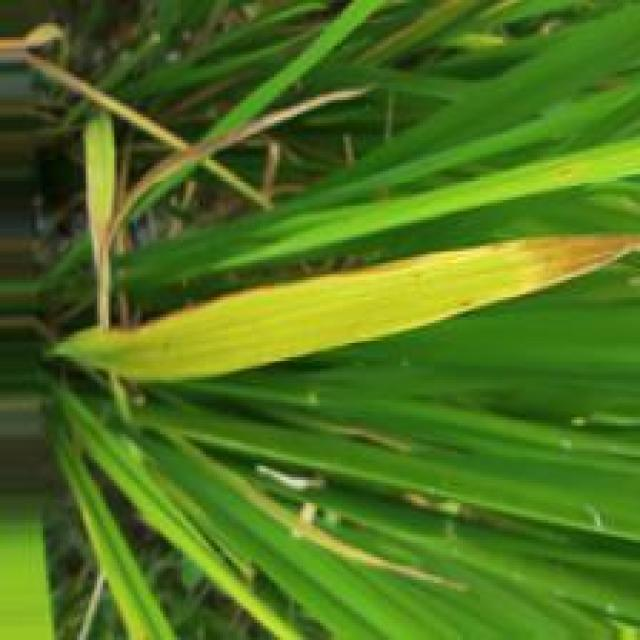Leaf_Scald: (477, 234, 638, 284)
